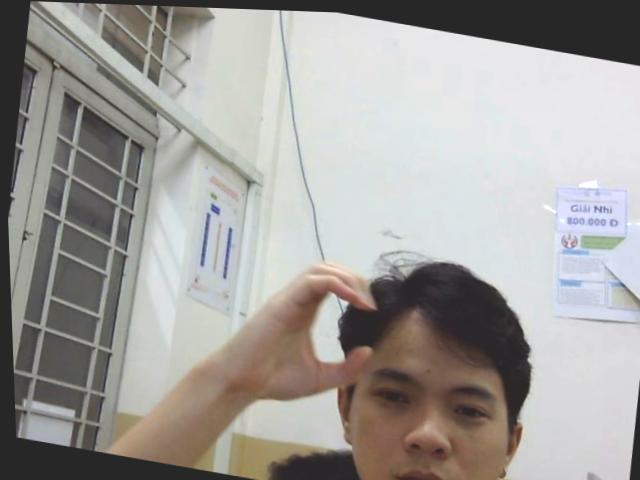C: (215, 241, 382, 421)
